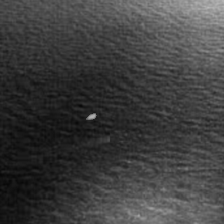Target: (86, 113, 98, 120)
